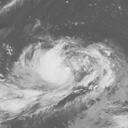cyclone: (21, 35, 110, 115)
